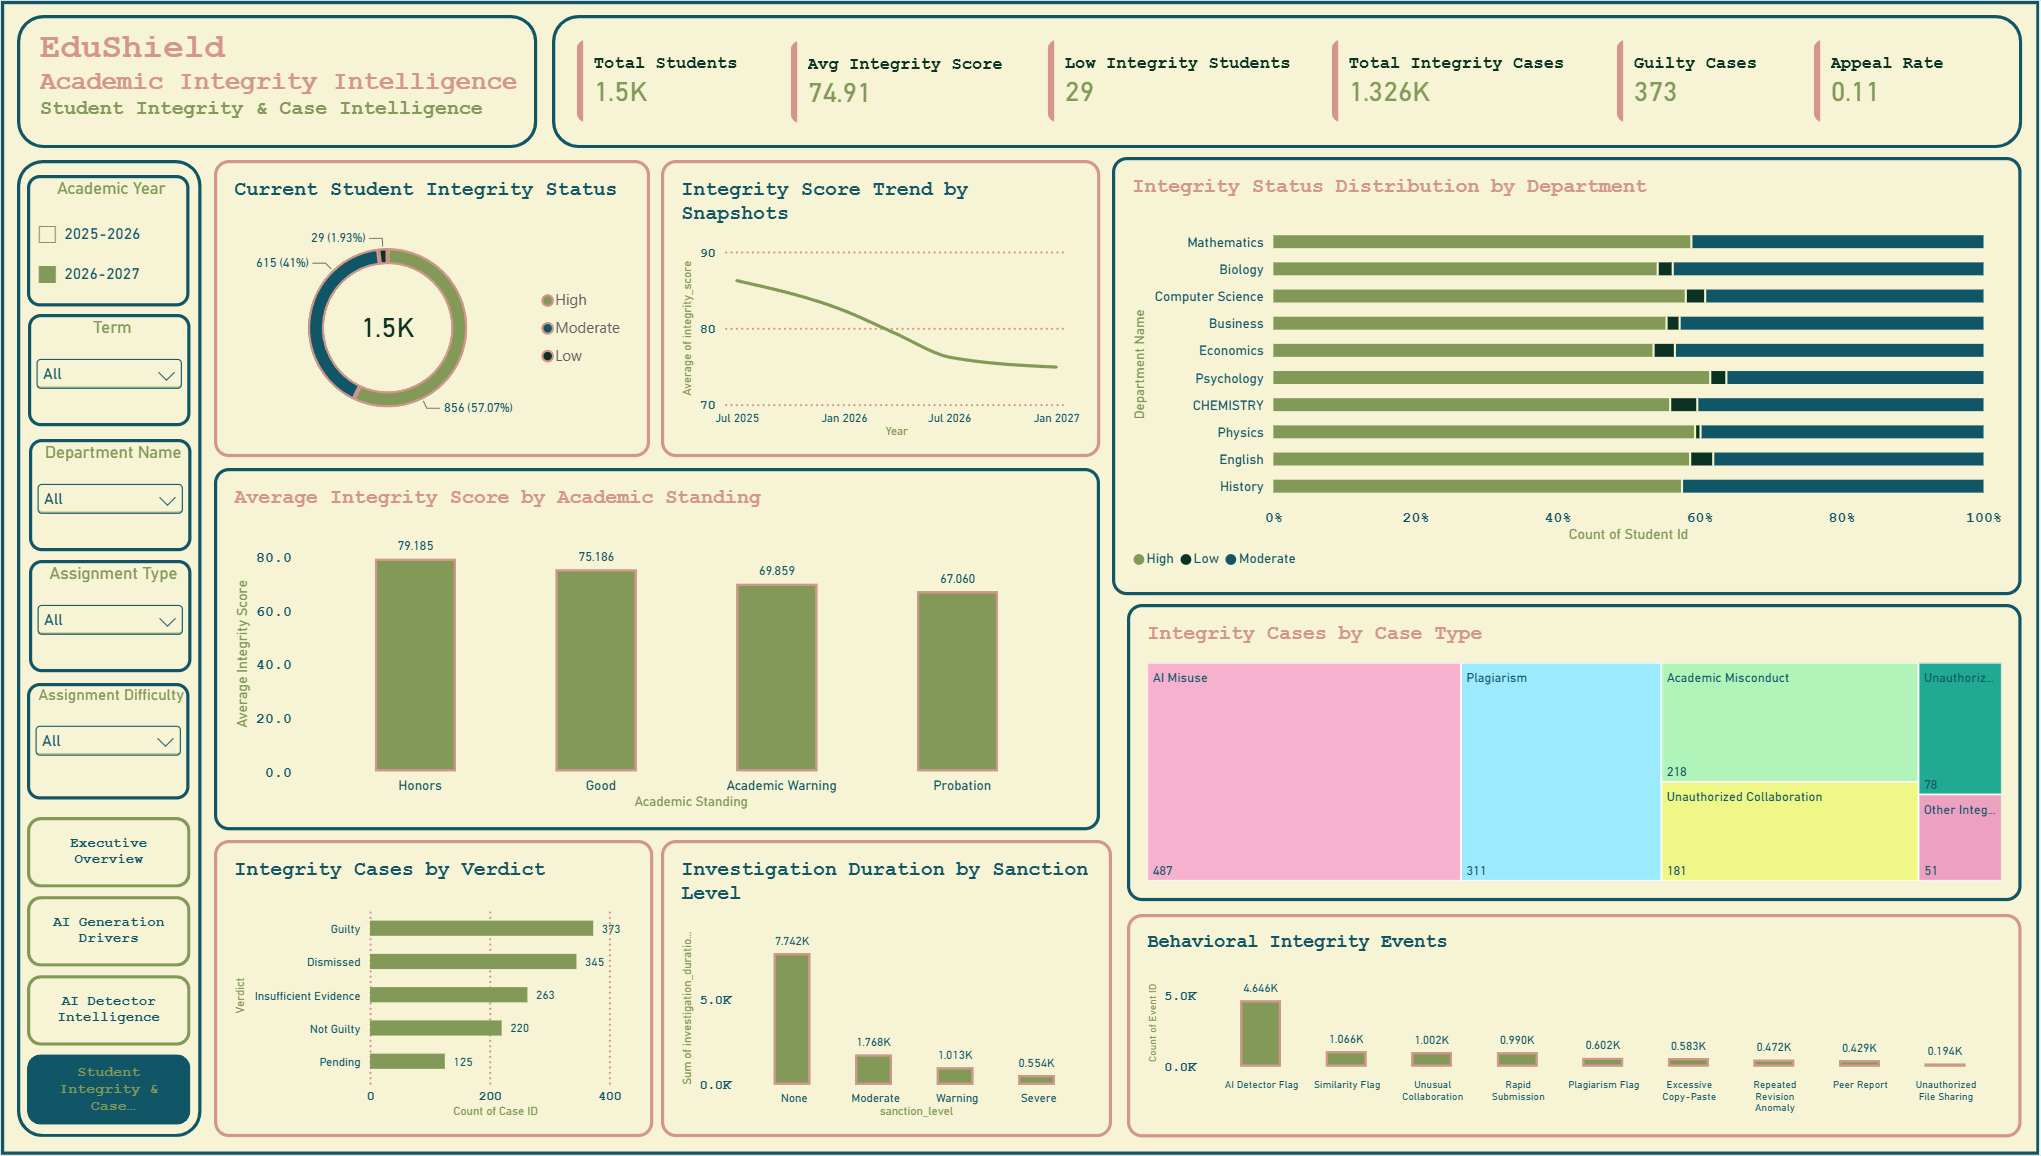

What the dashboard file says about the page in this screenshot:
{"tool":"powerbi","page":{"name":"Student Integrity & Case Intelligence","canvas":[1920,1080],"ordinal":3},"visuals":[{"type":"shape","box":[0,0,1907.4,1079.5],"z":0},{"type":"shape","box":[15.1,13.2,486.8,124.5],"z":1000},{"type":"textbox","box":[36.8,25.5,834,112.3],"z":2000},{"type":"shape","box":[15.1,149.1,172.7,914.2],"z":3000},{"type":"shape","box":[515.1,13.2,1375.6,124.5],"z":4000},{"type":"cardVisual","fields":{"Data":["1_All_Measures.Totall Students"]},"box":[527.7,25.3,208.7,99.2],"z":5000},{"type":"cardVisual","fields":{"Data":["1_All_Measures.Low Integrity Students"]},"box":[968.4,25.3,294.7,99.2],"z":6000},{"type":"donutChart","title":"Current Student Integrity Status","fields":{"Category":["vw_student_integrity_profile.integrity_status"],"Y":["CountNonNull(vw_student_integrity_profile.student_id)"]},"box":[199.3,148.8,408,277.9],"z":7000},{"type":"cardVisual","fields":{"Data":["1_All_Measures.Total Integrity Cases"]},"box":[1234.2,25.3,280.7,99.2],"z":8000},{"type":"clusteredColumnChart","title":"Average Integrity Score by Academic Standing","fields":{"Category":["vw_student_integrity_profile.academic_standing"],"Y":["1_All_Measures.Average Integrity Score"]},"box":[199.3,437,829,338.7],"z":9000},{"type":"cardVisual","fields":{"Data":["1_All_Measures.Guilty Cases"]},"box":[1500.8,25.3,222.7,99.2],"z":10000},{"type":"hundredPercentStackedBarChart","title":"Integrity Status Distribution by Department","fields":{"Category":["vw_student_integrity_profile.department_name"],"Y":["CountNonNull(vw_student_integrity_profile.student_id)"],"Series":["vw_student_integrity_profile.integrity_status"]},"box":[1039.5,146,851.5,409.8],"z":11000},{"type":"lineChart","title":"Integrity Score Trend by Snapshots","fields":{"Category":["student_integrity_history.snapshot_at.Variation.Date Hierarchy.Year","student_integrity_history.snapshot_at.Variation.Date Hierarchy.Quarter","student_integrity_history.snapshot_at.Variation.Date Hierarchy.Month","student_integrity_history.snapshot_at.Variation.Date Hierarchy.Day"],"Y":["Avg(student_integrity_history.integrity_score)"]},"box":[617.5,148.8,410.8,277.9],"z":12000},{"type":"cardVisual","fields":{"Data":["1_All_Measures.Average Integrity Score"]},"box":[728,26.2,247,99.2],"z":13000},{"type":"cardVisual","fields":{"Data":["1_All_Measures.Appeal Rate"]},"box":[1685.1,25.3,222.7,99.2],"z":14000},{"type":"clusteredBarChart","title":"Integrity Cases by Verdict","fields":{"Category":["vw_integrity_case_analysis.verdict"],"Y":["CountNonNull(vw_integrity_case_analysis.case_id)"]},"box":[199.3,785,410.8,277.9],"z":15000},{"type":"treemap","title":"Integrity Cases by Case Type","fields":{"Values":["CountNonNull(vw_integrity_case_analysis.case_id)"],"Group":["vw_integrity_case_analysis.case_type"]},"box":[1053.6,564.2,837.4,277.9],"z":16000},{"type":"clusteredColumnChart","title":"Investigation Duration by Sanction Level","fields":{"Category":["vw_integrity_case_analysis.sanction_level"],"Y":["Sum(vw_integrity_case_analysis.investigation_duration_days)"]},"box":[617.5,785,422,277.9],"z":17000},{"type":"clusteredColumnChart","title":"Behavioral Integrity Events","fields":{"Category":["student_behavior_events.event_type"],"Y":["CountNonNull(student_behavior_events.event_id)"]},"box":[1053.6,854.3,837.4,208.7],"z":18000},{"type":"pageNavigator","box":[24.3,763.5,153.5,290.1],"z":18001},{"type":"slicer","title":"Academic Year","fields":{"Values":["academic_terms.academic_year"]},"box":[24.3,162.8,151.6,122.6],"z":18002},{"type":"slicer","title":"Term","fields":{"Values":["academic_terms.term_name"]},"box":[25.3,292.9,151.6,104.8],"z":18003},{"type":"slicer","title":"Department Name","fields":{"Values":["departments.department_name"]},"box":[26.2,409.8,151.6,104.8],"z":18004},{"type":"slicer","title":"Assignment Type","fields":{"Values":["assignments.assignment_type"]},"box":[26.2,523,151.6,104.8],"z":18005},{"type":"slicer","title":"Assignment Difficulty","fields":{"Values":["vw_submission_analytics.assignment_difficulty"]},"box":[24.3,638.1,151.6,108.5],"z":18006}]}

Visuals, with their boxes in screenshot pixels (x1, y1, x2, y2), scaled from the page's 1920x1080 canvas onto the 2041x1156 screenshot:
shape: <bbox>0, 0, 2028, 1155</bbox>
shape: <bbox>16, 14, 534, 147</bbox>
textbox: <bbox>39, 27, 926, 147</bbox>
shape: <bbox>16, 160, 200, 1138</bbox>
shape: <bbox>548, 14, 2010, 147</bbox>
cardVisual - 1_All_Measures.Totall Students: <bbox>561, 27, 783, 133</bbox>
cardVisual - 1_All_Measures.Low Integrity Students: <bbox>1029, 27, 1343, 133</bbox>
"Current Student Integrity Status" donutChart: <bbox>212, 159, 646, 457</bbox>
cardVisual - 1_All_Measures.Total Integrity Cases: <bbox>1312, 27, 1610, 133</bbox>
"Average Integrity Score by Academic Standing" clusteredColumnChart: <bbox>212, 468, 1093, 830</bbox>
cardVisual - 1_All_Measures.Guilty Cases: <bbox>1595, 27, 1832, 133</bbox>
"Integrity Status Distribution by Department" hundredPercentStackedBarChart: <bbox>1105, 156, 2010, 595</bbox>
"Integrity Score Trend by Snapshots" lineChart: <bbox>656, 159, 1093, 457</bbox>
cardVisual - 1_All_Measures.Average Integrity Score: <bbox>774, 28, 1036, 134</bbox>
cardVisual - 1_All_Measures.Appeal Rate: <bbox>1791, 27, 2028, 133</bbox>
"Integrity Cases by Verdict" clusteredBarChart: <bbox>212, 840, 649, 1138</bbox>
"Integrity Cases by Case Type" treemap: <bbox>1120, 604, 2010, 901</bbox>
"Investigation Duration by Sanction Level" clusteredColumnChart: <bbox>656, 840, 1105, 1138</bbox>
"Behavioral Integrity Events" clusteredColumnChart: <bbox>1120, 914, 2010, 1138</bbox>
pageNavigator: <bbox>26, 817, 189, 1128</bbox>
"Academic Year" slicer: <bbox>26, 174, 187, 305</bbox>
"Term" slicer: <bbox>27, 314, 188, 426</bbox>
"Department Name" slicer: <bbox>28, 439, 189, 551</bbox>
"Assignment Type" slicer: <bbox>28, 560, 189, 672</bbox>
"Assignment Difficulty" slicer: <bbox>26, 683, 187, 799</bbox>
